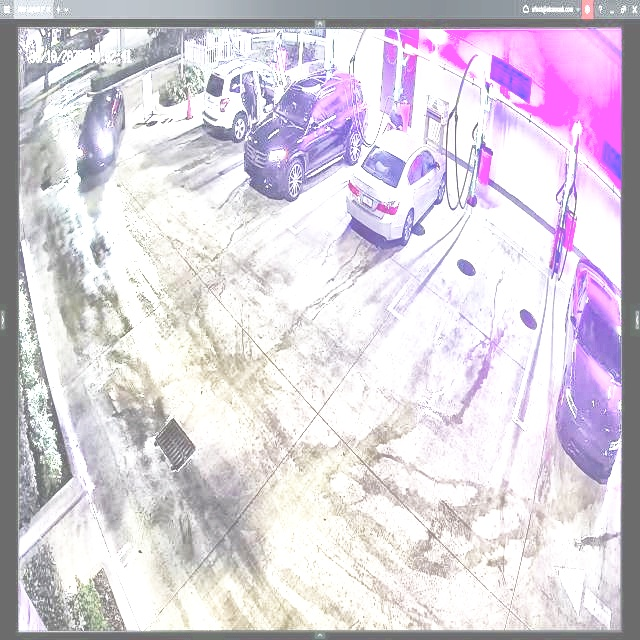Car: (244, 68, 368, 197), (343, 130, 449, 243), (201, 64, 297, 143), (76, 85, 124, 179)
